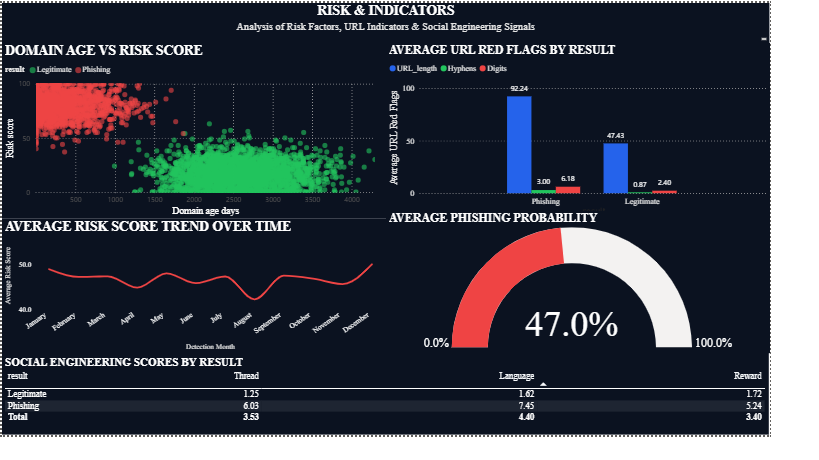

This screenshot's page, from the dashboard's own definition file:
{"tool":"powerbi","page":{"name":"Risk","canvas":[1280,720],"ordinal":1},"visuals":[{"type":"scatterChart","title":"DOMAIN AGE VS RISK SCORE","fields":{"X":["phishing_dataset_advanced.domain_age_days"],"Y":["phishing_dataset_advanced.risk_score"],"Series":["phishing_dataset_advanced.result"]},"box":[0,67.3,639.5,292.7],"z":0},{"type":"clusteredColumnChart","title":"AVERAGE URL RED FLAGS BY RESULT","fields":{"Category":["phishing_dataset_advanced.result"],"Y":["Avg(phishing_dataset_advanced.url_length)","Avg(phishing_dataset_advanced.num_hyphens)","Avg(phishing_dataset_advanced.num_digits_in_url)"]},"box":[639.5,67.3,641,292.7],"z":1000},{"type":"lineChart","title":"AVERAGE RISK SCORE TREND OVER TIME","fields":{"Y":["Measures (2).Average Risk Score"],"Category":["phishing_dataset_advanced.detection_date.Variation.Date Hierarchy.Month"]},"box":[0,360,641,223.9],"z":2000},{"type":"textbox","title":"RISK & INDICATORS","box":[0,0,1279,67.3],"z":3000},{"type":"gauge","title":"AVERAGE PHISHING PROBABILITY","fields":{"Y":["Avg(phishing_dataset_advanced.phishing_probability)"]},"box":[639.5,346.8,639.5,237.1],"z":4000},{"type":"pivotTable","title":"SOCIAL ENGINEERING SCORES BY RESULT","fields":{"Rows":["phishing_dataset_advanced.result"],"Values":["Avg(phishing_dataset_advanced.threat_language_score)","Avg(phishing_dataset_advanced.urgency_language_score)","Avg(phishing_dataset_advanced.reward_language_score)"]},"box":[0,583.9,1277.6,136.1],"z":5000}]}

Visuals, with their boxes in screenshot pixels (x1, y1, x2, y2), scaled from the page's 1280x720 canvas onto the 819x460 screenshot:
"DOMAIN AGE VS RISK SCORE" scatterChart: 0/43/409/230
"AVERAGE URL RED FLAGS BY RESULT" clusteredColumnChart: 409/43/818/230
"AVERAGE RISK SCORE TREND OVER TIME" lineChart: 0/230/410/373
"RISK & INDICATORS" textbox: 0/0/818/43
"AVERAGE PHISHING PROBABILITY" gauge: 409/222/818/373
"SOCIAL ENGINEERING SCORES BY RESULT" pivotTable: 0/373/817/459
